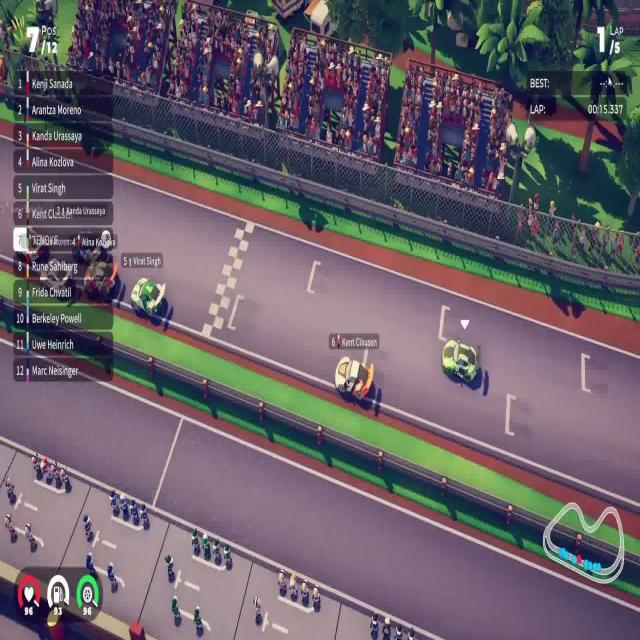car: (334, 354, 374, 402), (440, 337, 480, 384), (130, 276, 166, 323)
